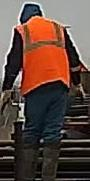gloves: (0, 89, 14, 116), (70, 83, 84, 105)
vest: (15, 15, 71, 95)
